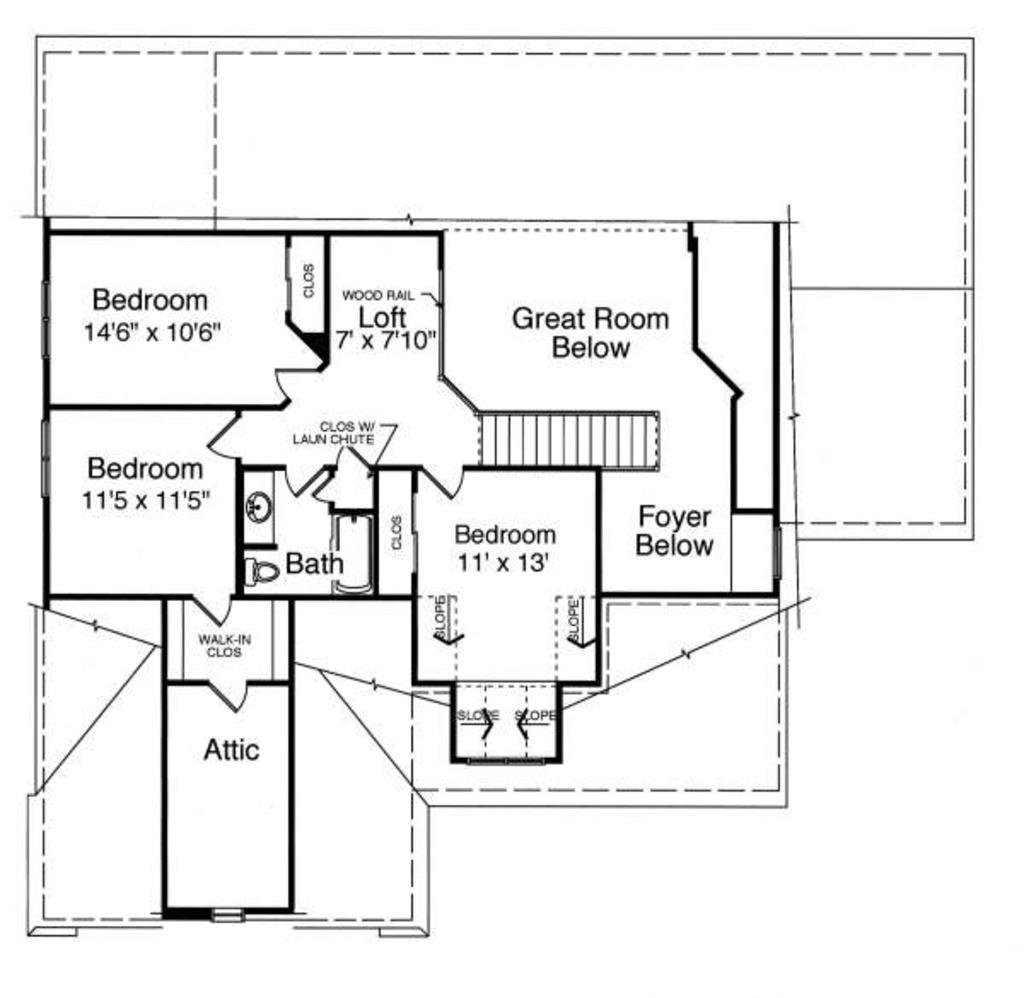door: (186, 585, 242, 628), (204, 676, 265, 710), (273, 365, 322, 406), (209, 406, 244, 460), (276, 462, 327, 494), (424, 460, 462, 500)
large_sink: (238, 549, 288, 594)
small_sink: (241, 462, 277, 545)
stairs: (466, 407, 672, 471)
tub: (330, 516, 376, 605)
windows: (32, 411, 55, 509)
